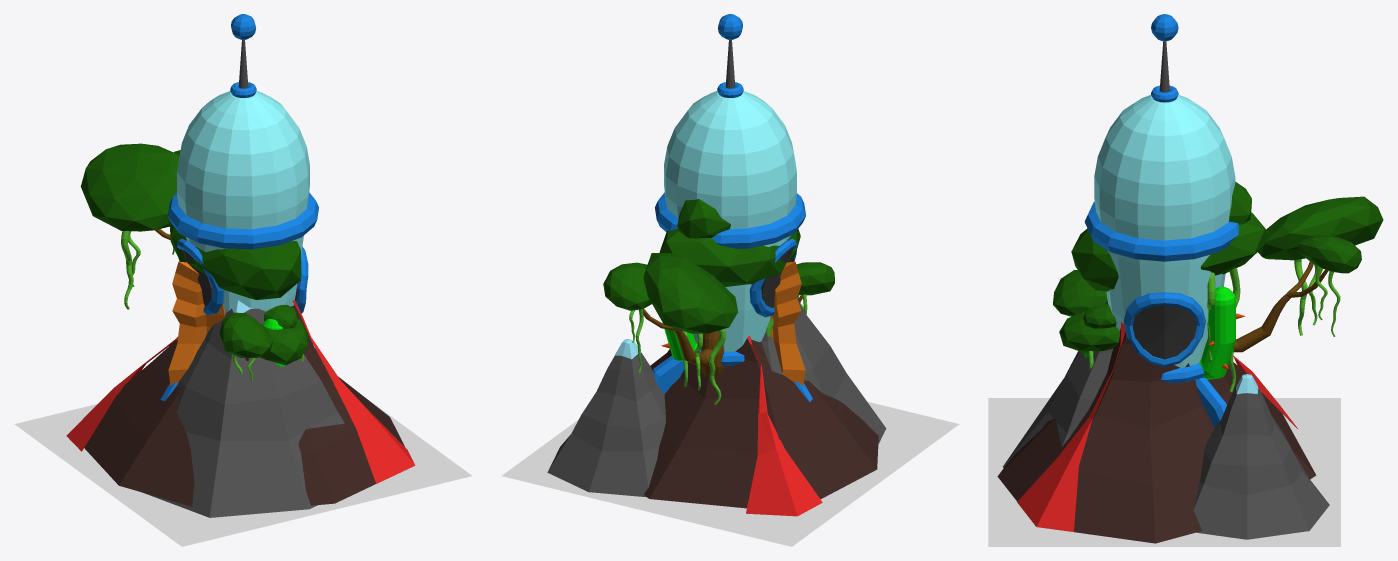
File: PineTree.fbx
The picture shows the model from 3 angles, left to right: view 1: azimuth 30°, elevation 25°; view 2: azimuth 150°, elevation 25°; view 3: azimuth 270°, elevation 25°; orthographic projection. The views are drawn at different scales.
Visible parts, largest first — view 1: Volcano, Mounatin, Rocket, Leaves, Plane.002, Upper Accent, Cube, Window, Vines; view 2: Volcano, Rocket, Leaves, Plane.002, Mounatin.001, Mounatin, Cube, Upper Accent, Vines, Window, Trunk, Rocket Fins; view 3: Volcano, Rocket, Leaves, Plane.002, Mounatin.001, Window, Mounatin, Upper Accent, Cactus, Vines, Trunk, Rocket Fins (+1 smaller).
Part boxes in pixels (x1,y1,x2,y2): Volcano: (66,300,415,506); Mounatin: (144,308,344,517); Rocket: (177,91,309,312); Leaves: (80,143,307,365); Plane.002: (14,398,471,546); Upper Accent: (168,192,318,249); Cube: (168,261,225,385); Window: (177,238,308,315); Vines: (121,231,304,382); Volcano: (644,336,878,516); Rocket: (664,91,796,351); Leaves: (603,199,834,333); Plane.002: (502,401,959,546); Mounatin.001: (547,352,665,497); Mounatin: (761,298,886,444); Cube: (770,261,805,385); Upper Accent: (655,192,805,248); Vines: (629,294,807,404); Window: (749,238,797,317); Trunk: (643,295,802,377); Rocket Fins: (652,355,684,393); Volcano: (997,322,1316,543); Rocket: (1094,95,1235,367); Leaves: (1053,181,1383,352); Plane.002: (988,398,1340,546); Mounatin.001: (1193,387,1329,539); Window: (1123,292,1205,367); Mounatin: (1003,300,1113,467); Upper Accent: (1084,201,1238,261); Cactus: (1084,286,1245,379); Vines: (1088,259,1340,391); Trunk: (1233,261,1328,352); Rocket Fins: (1195,377,1226,427).
Bounding box in the file's own units: 2000 × 2909 × 2240.
